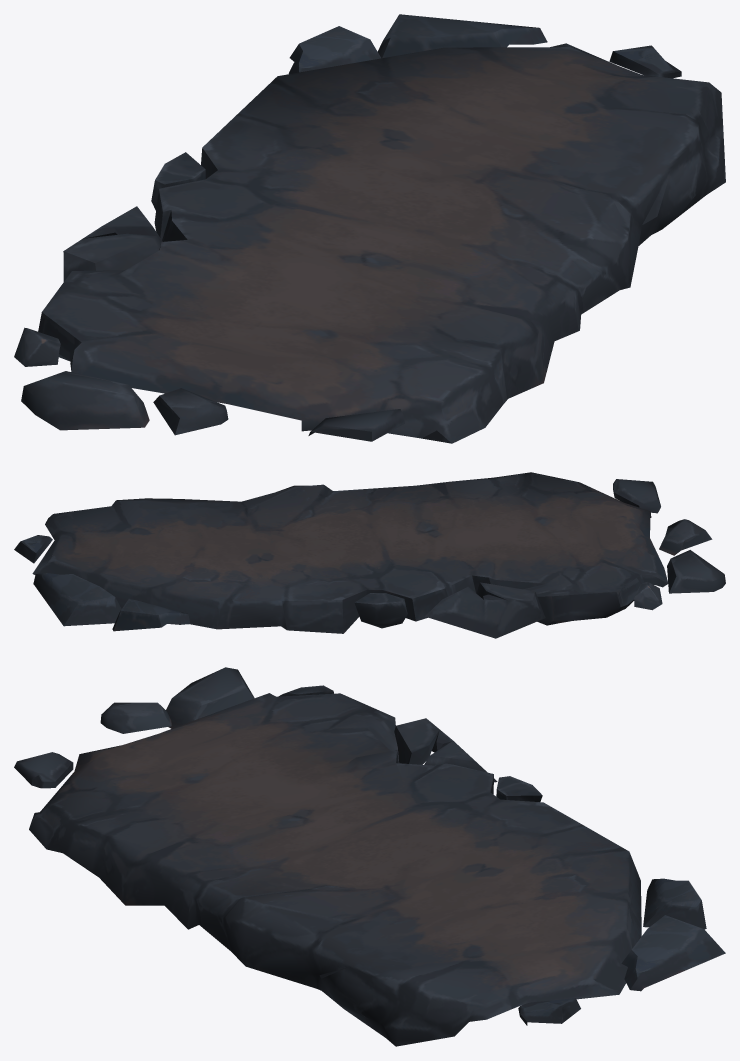
File: yw_ziyuanpingtai_guodao_001.FBX
The picture shows the model from 3 angles, top to bottom: view 1: azimuth 30°, elevation 25°; view 2: azimuth 150°, elevation 25°; view 3: azimuth 270°, elevation 25°; orthographic projection. The views are drawn at different scales.
Visible parts, largest first — view 1: yw_ziyuanpingtai_guodao_001; view 2: yw_ziyuanpingtai_guodao_001; view 3: yw_ziyuanpingtai_guodao_001.
Part boxes in pixels (x1,y1,x2,y2): yw_ziyuanpingtai_guodao_001: [14, 14, 725, 443]; yw_ziyuanpingtai_guodao_001: [14, 472, 725, 638]; yw_ziyuanpingtai_guodao_001: [14, 667, 725, 1046].
Size of the model in its own units: 2353 by 222 by 2055.
